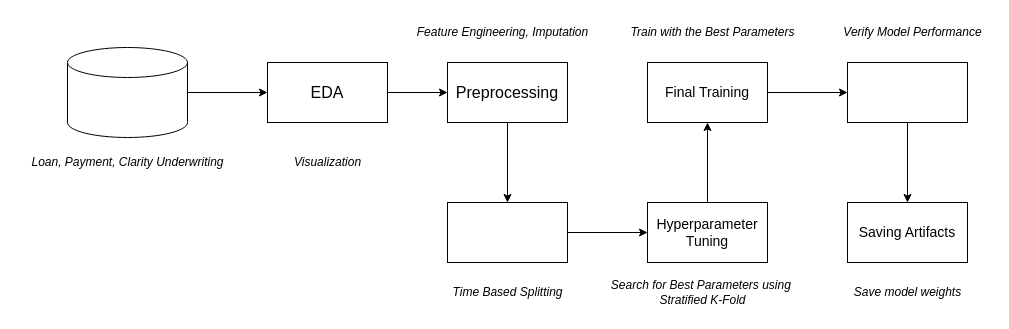
Some shapes in this 1009 by 329 pixel diagram are drawn without their labels. Here are the shapes that lost their labels. From the top down, the centre of each, then its label:
At [127,92]: "Data".
At [907,92]: "Evaluations".
At [507,232]: "Train/Test/Valid Split".
